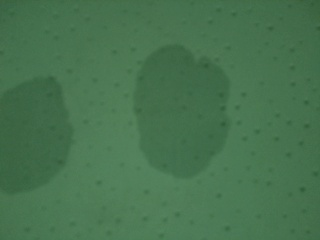Water_detected: (131, 55, 210, 158), (0, 99, 59, 180)
